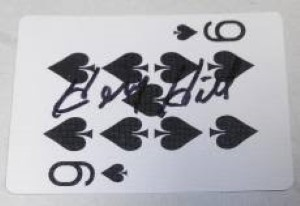NineOfSpades: (4, 11, 293, 194)
